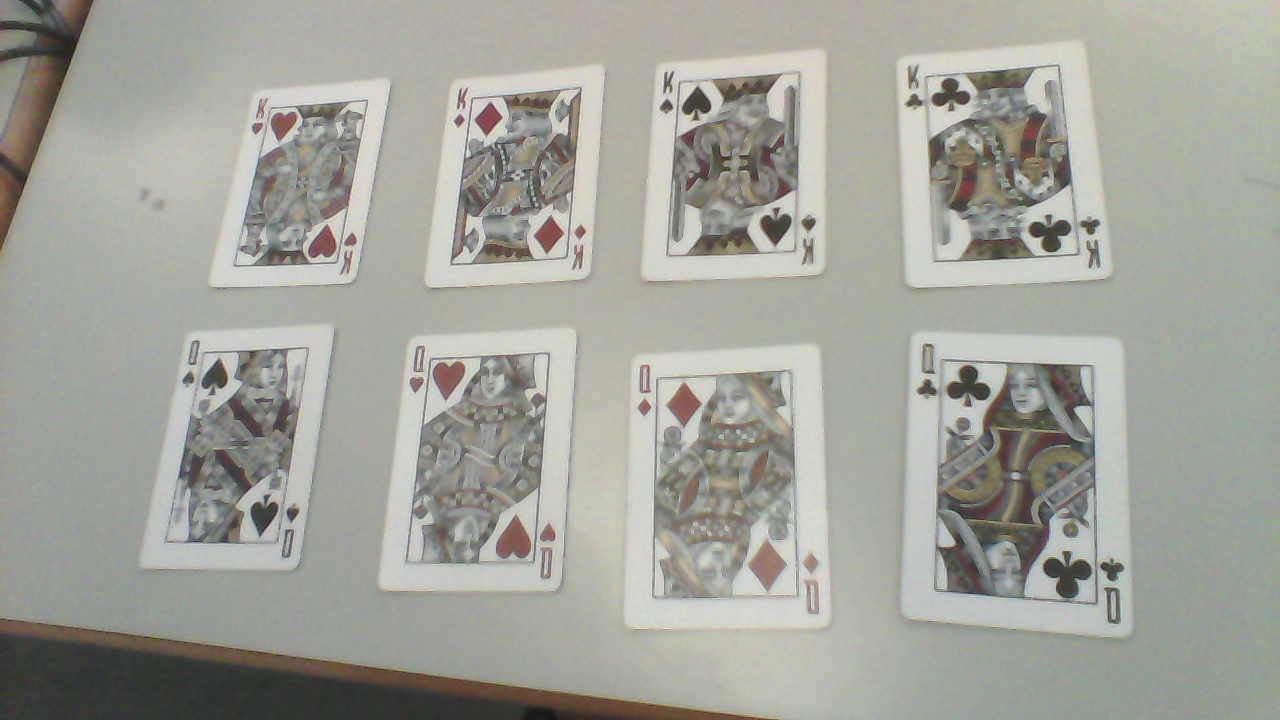king_clubs: (896, 44, 1120, 287)
king_diamonds: (433, 64, 610, 290)
king_hearts: (209, 80, 397, 290)
king_spades: (653, 54, 832, 282)
queen_clubs: (907, 336, 1138, 644)
queen_diamonds: (630, 348, 835, 636)
queen_hearts: (380, 333, 586, 596)
queen_spades: (143, 329, 339, 580)
